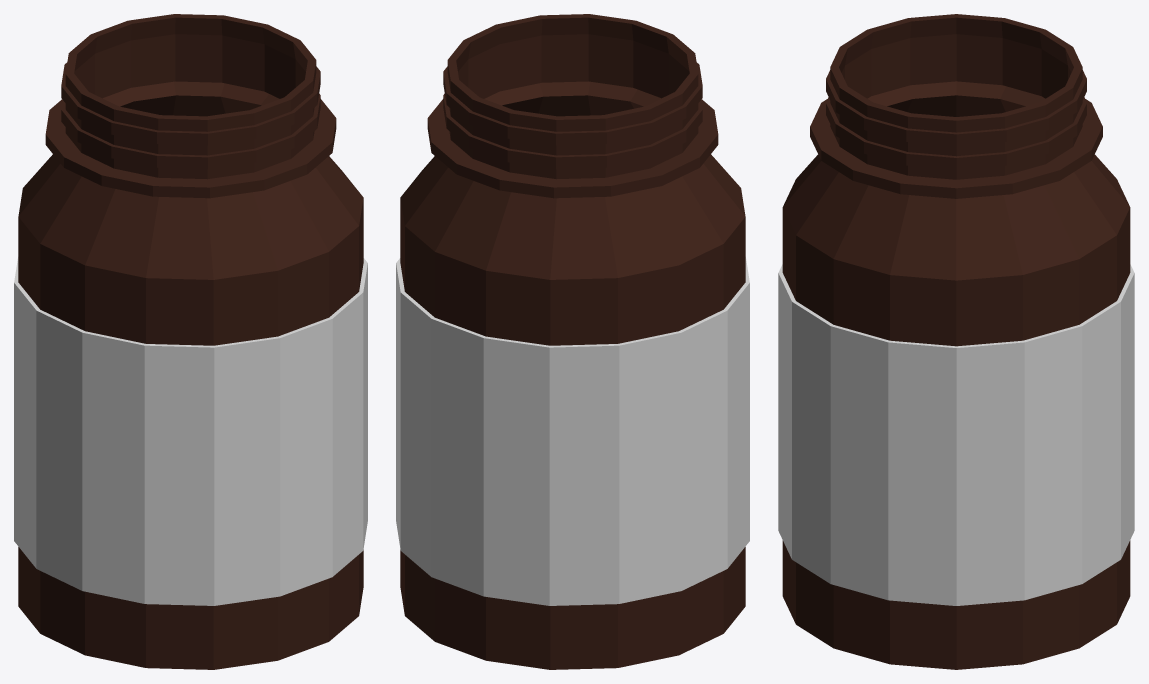
Rendered from Bottle.fbx.
The picture shows the model from 3 angles, left to right: view 1: azimuth 30°, elevation 25°; view 2: azimuth 150°, elevation 25°; view 3: azimuth 270°, elevation 25°; orthographic projection.
Parts seen in each view (by area): view 1: Bottle; view 2: Bottle; view 3: Bottle.
Part boxes in pixels (<box>): Bottle: <box>14,14,367,669</box>; Bottle: <box>396,14,749,669</box>; Bottle: <box>778,14,1134,669</box>.
Size of the model in its own units: 0.0923 by 0.1512 by 0.0923.
